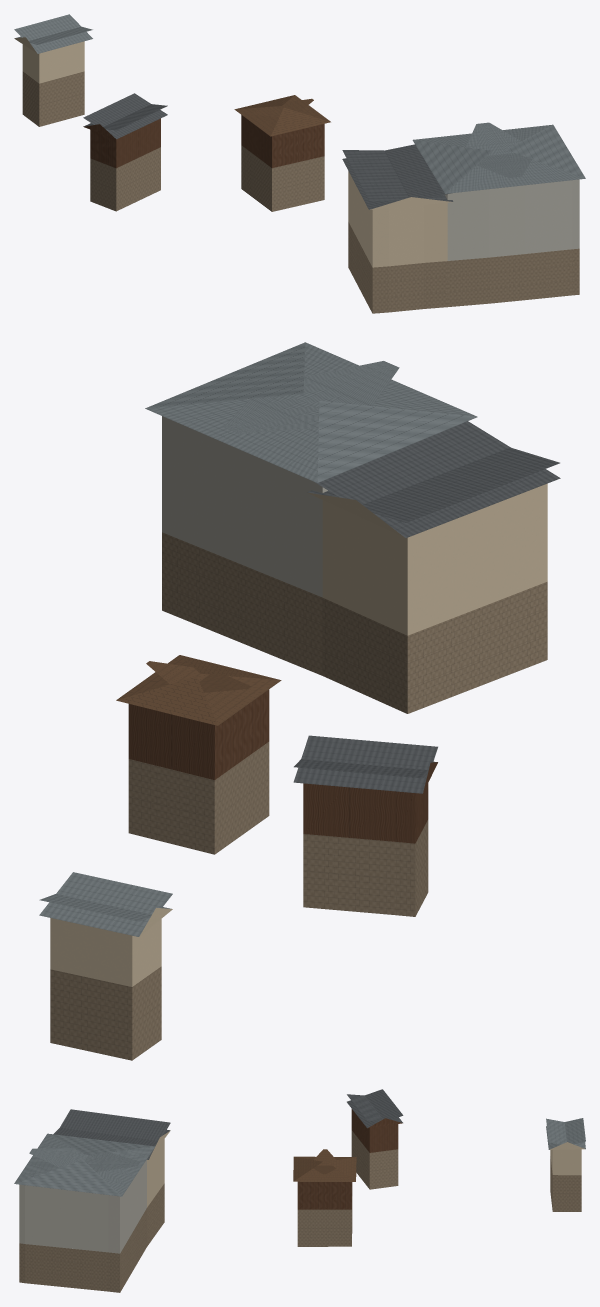
File: bld_c1_10_489.gltf
3 renders of one model, top to bottom at view 1: azimuth 30°, elevation 25°; view 2: azimuth 150°, elevation 25°; view 3: azimuth 270°, elevation 25°, orthographic. The views are drawn at different scales.
Parts seen in each view (by area): view 1: bld_c1_10_489; view 2: bld_c1_10_489; view 3: bld_c1_10_489.
Part boxes in pixels (x1,y1,x2,y2): bld_c1_10_489: (14,14,585,313); bld_c1_10_489: (39,342,560,1060); bld_c1_10_489: (14,1089,585,1292).
Size of the model in its own units: 36.69 by 14.6 by 67.47.
Materials: 9 (9 with a texture image).
